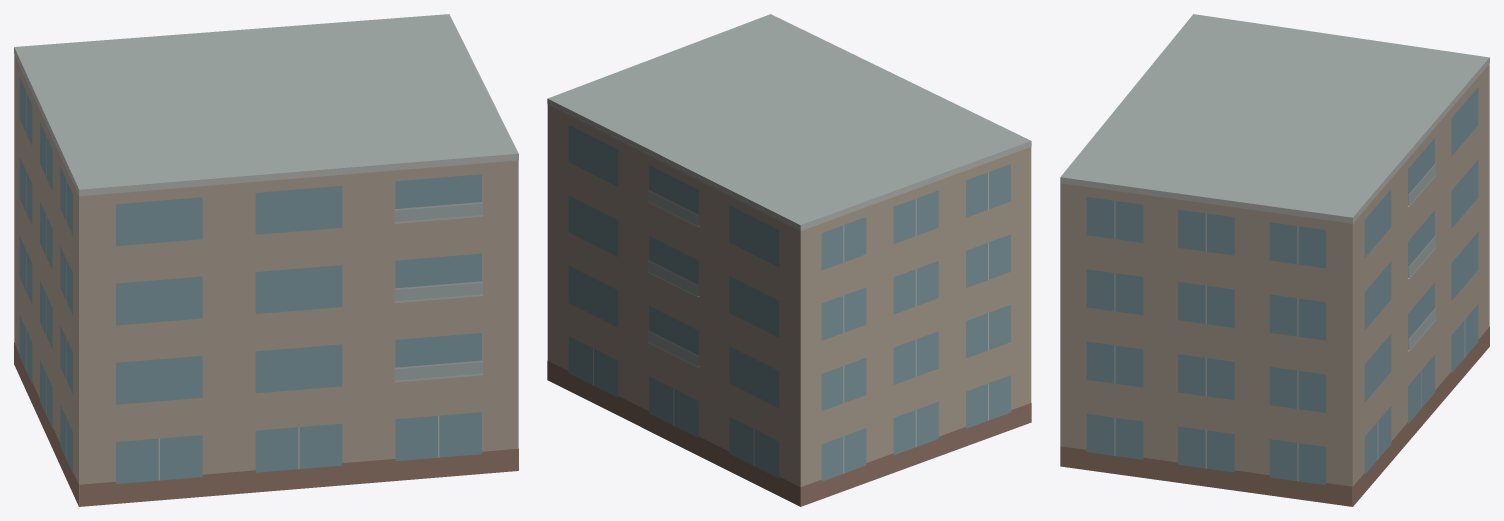
Rendered from survey-upis-32708261.glb.
3 views of the same model, side by side, from view 1: azimuth 30°, elevation 25°; view 2: azimuth 150°, elevation 25°; view 3: azimuth 270°, elevation 25° (orthographic). The views are drawn at different scales.
Parts seen in each view (by area): view 1: survey-upis-32708261.tmp; view 2: survey-upis-32708261.tmp; view 3: survey-upis-32708261.tmp.
Part boxes in pixels (bbox=[...]): survey-upis-32708261.tmp: bbox=[14, 14, 518, 506]; survey-upis-32708261.tmp: bbox=[547, 14, 1031, 506]; survey-upis-32708261.tmp: bbox=[1060, 14, 1489, 506].
Bounding box in the file's own units: 17.66 × 11.69 × 15.74.
